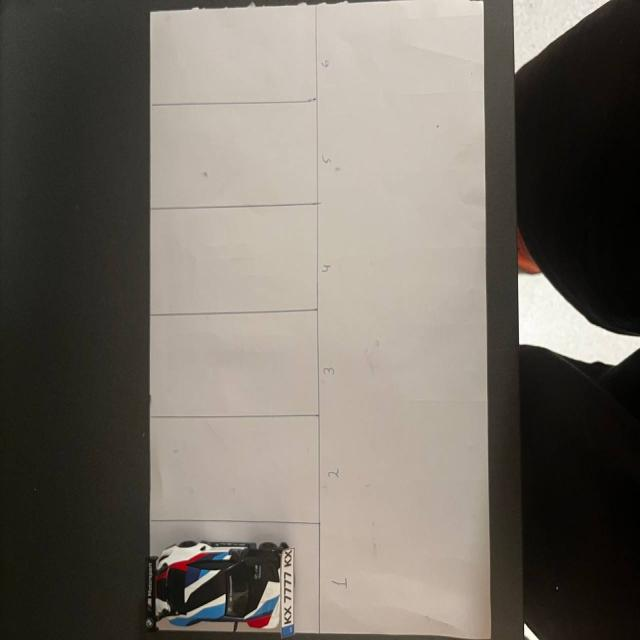cars: (145, 525, 308, 639)
